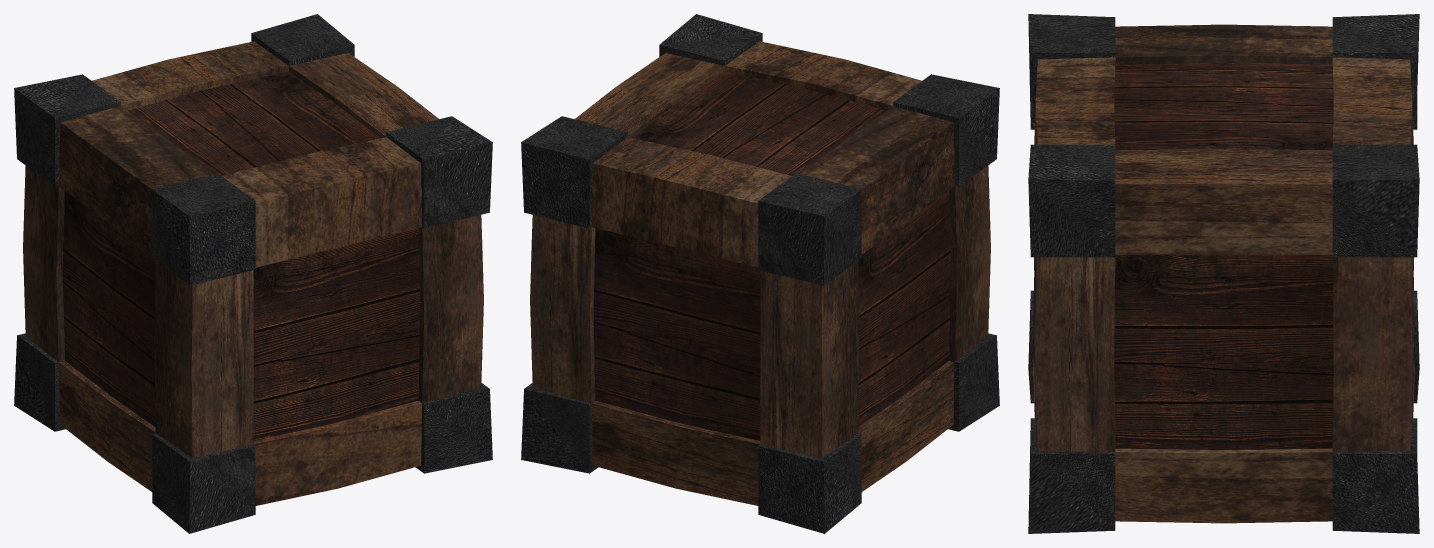
File: box_Small_GEO.fbx
3 renders of one model, left to right at view 1: azimuth 30°, elevation 25°; view 2: azimuth 150°, elevation 25°; view 3: azimuth 270°, elevation 25°, orthographic. The views are drawn at different scales.
Parts seen in each view (by area): view 1: box_Small_GEO; view 2: box_Small_GEO; view 3: box_Small_GEO.
Part boxes in pixels (<box>): box_Small_GEO: <box>14,14,492,533</box>; box_Small_GEO: <box>521,14,999,533</box>; box_Small_GEO: <box>1028,14,1419,533</box>.
Bounding box in the file's own units: 1.14 × 1.14 × 1.14.
